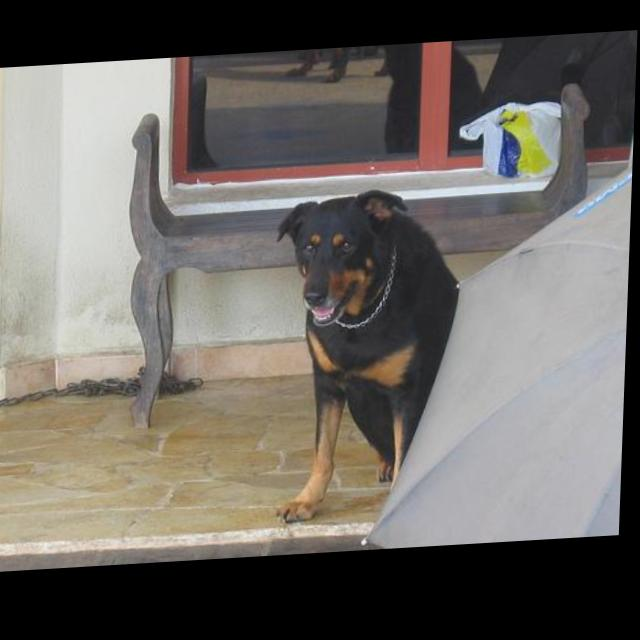rottweiler: (269, 190, 467, 529)
